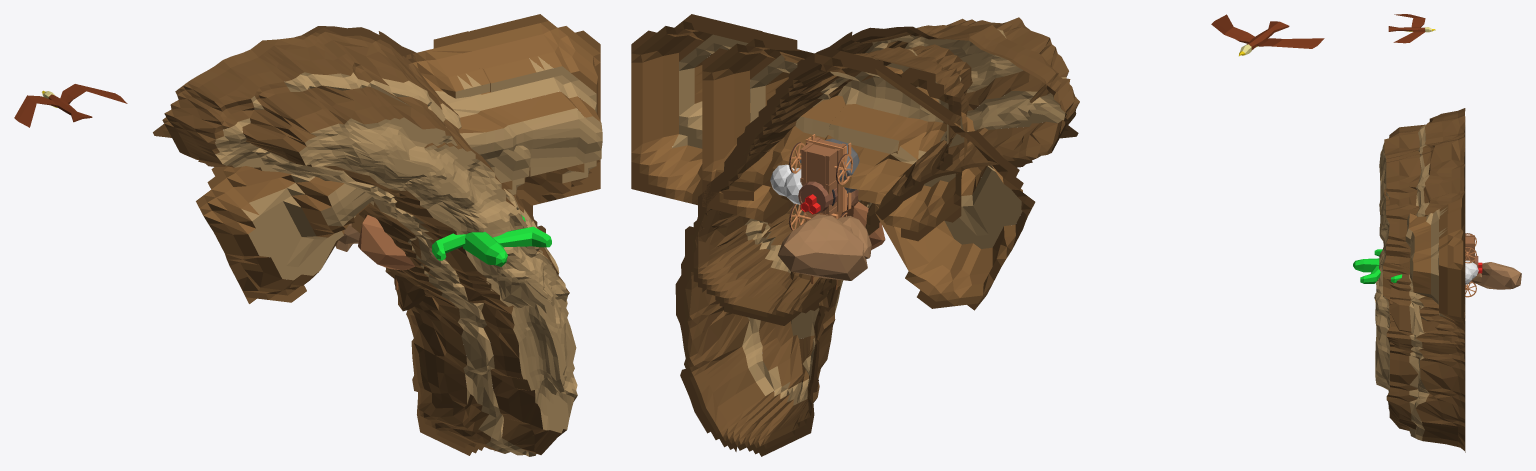
File: low-poly-western-a46585.glb
3 views of the same model, side by side, from view 1: azimuth 30°, elevation 25°; view 2: azimuth 150°, elevation 25°; view 3: azimuth 270°, elevation 25° (orthographic). The views are drawn at different scales.
Parts seen in each view (by area): view 1: PropMesh; view 2: PropMesh; view 3: PropMesh.
Boxes of the visible parts, x1,y1,x2,y2 form: PropMesh: (14,14,602,456); PropMesh: (631,14,1324,456); PropMesh: (1353,14,1521,452).
Size of the model in its own units: 2.9 by 2.2 by 1.15.
